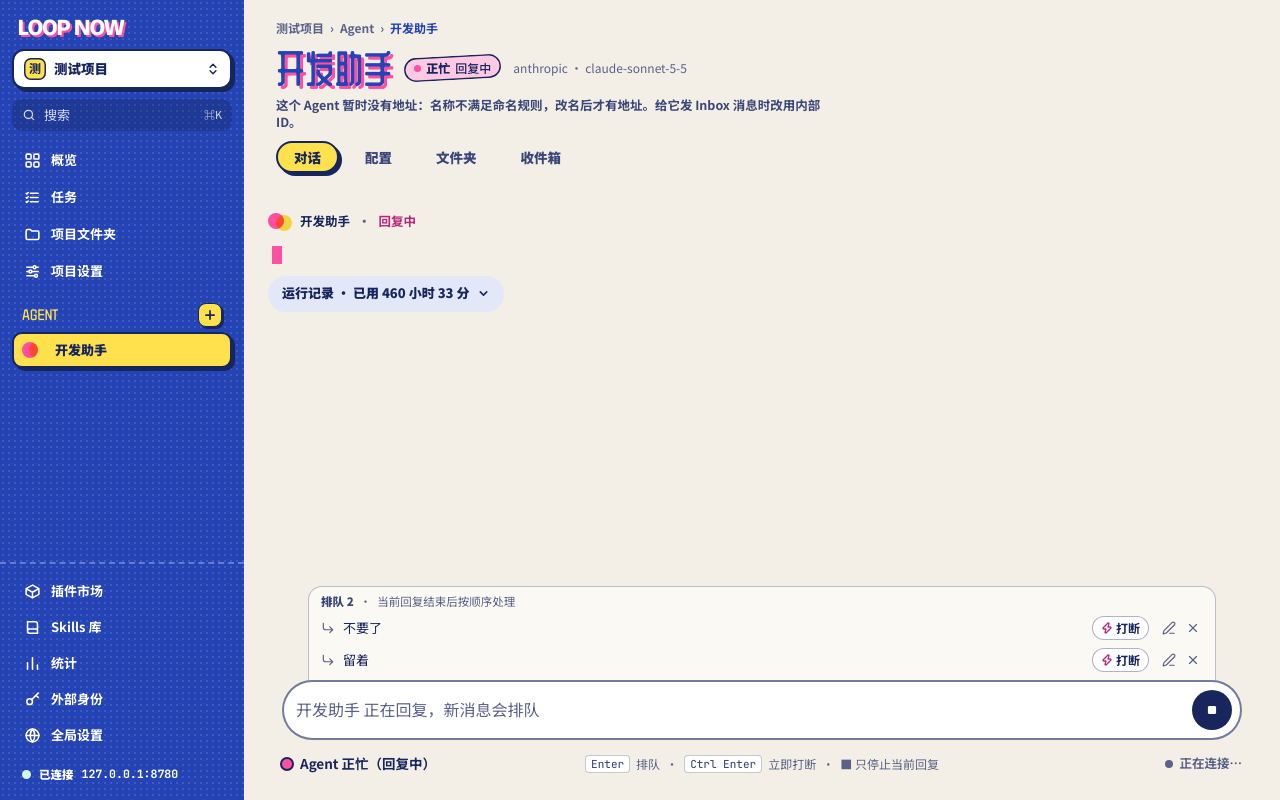
it: 输入框上方的排队托盘 › 取消：结果不明时按钮改为重试，重试沿用同一 actionId；成功后按回执去掉这一行
The image size is (1280, 800).
Expected: the element showing "开发助手 · 回复中 运行记录 · 已用 460 小时 33 分" is shown, x1=268 y1=213 x2=504 y2=312
Click the 1st button named "取消这条排队消息".
click(1193, 628)  # box x1=1181 y1=616 x2=1205 y2=640
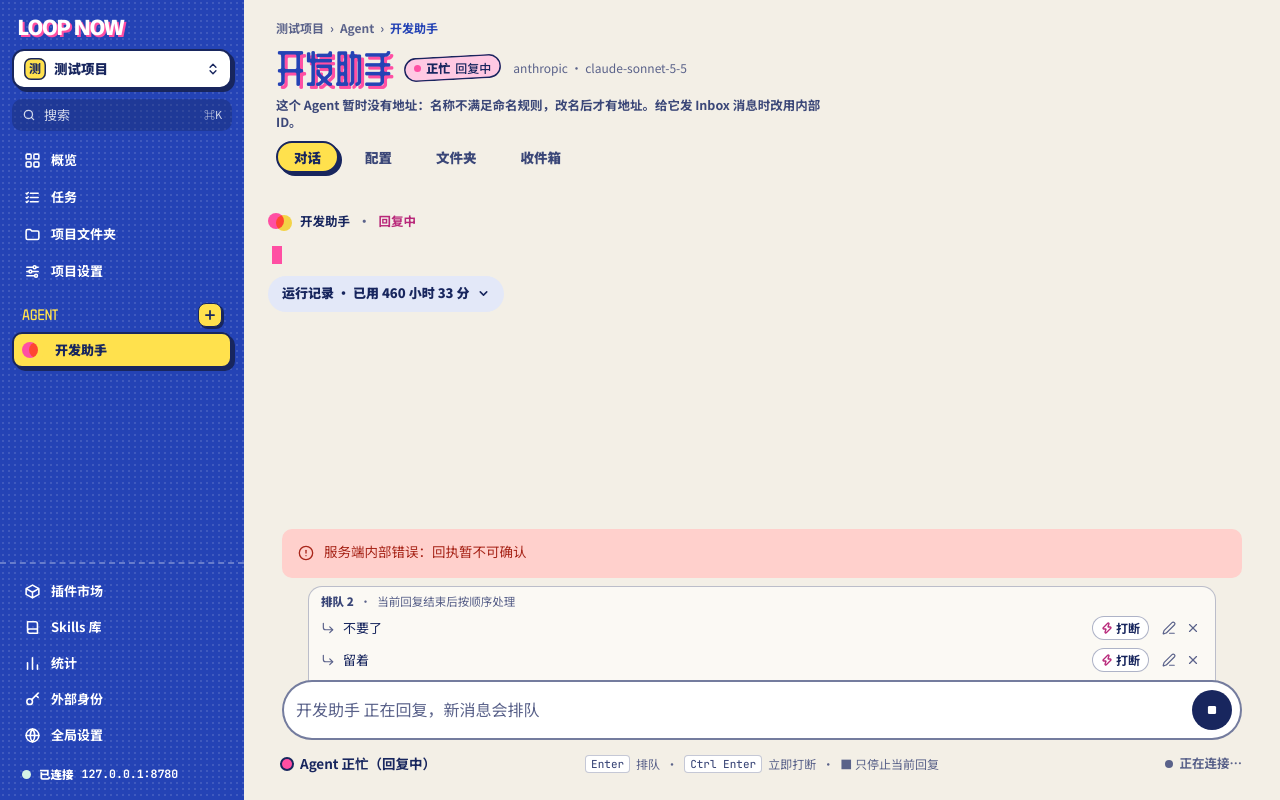
Click the button named "重试取消这条排队消息".
click(1193, 628)  # box x1=1181 y1=616 x2=1205 y2=640
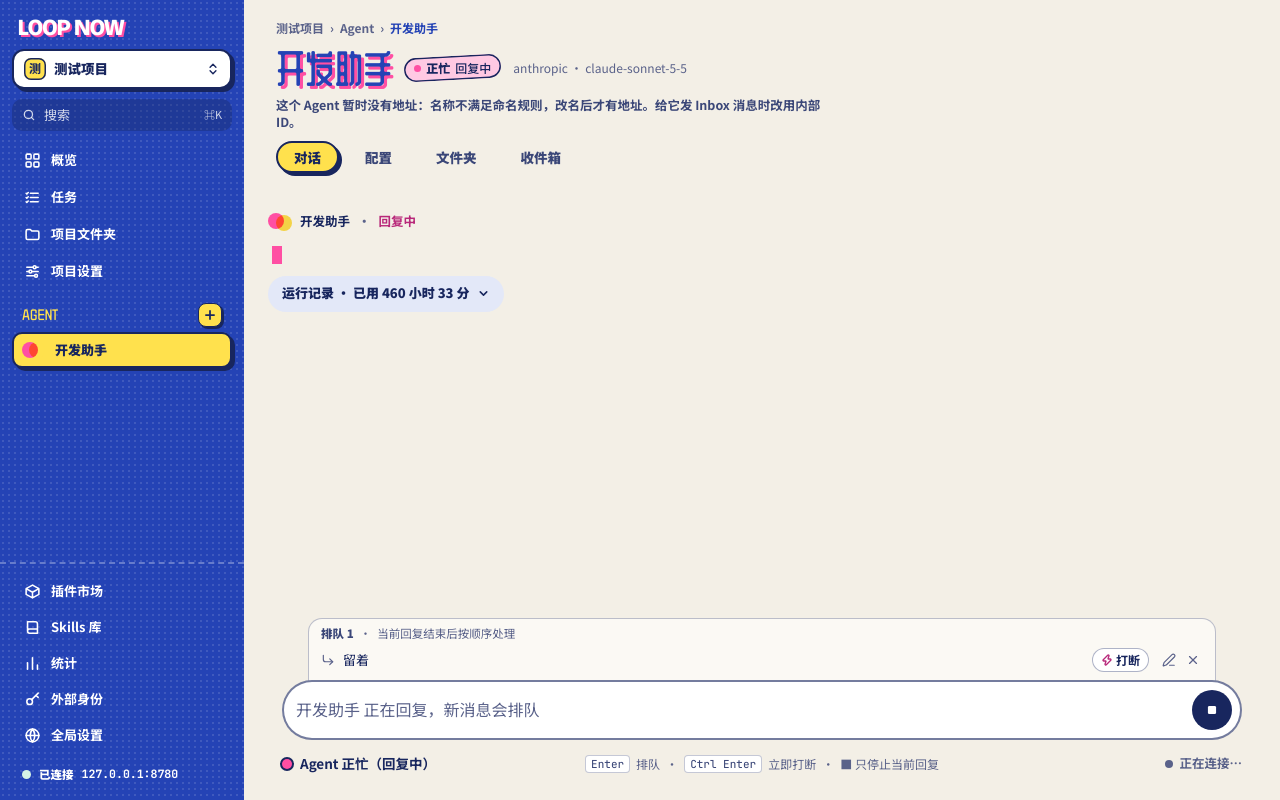
Result: the button "不要了" is gone
